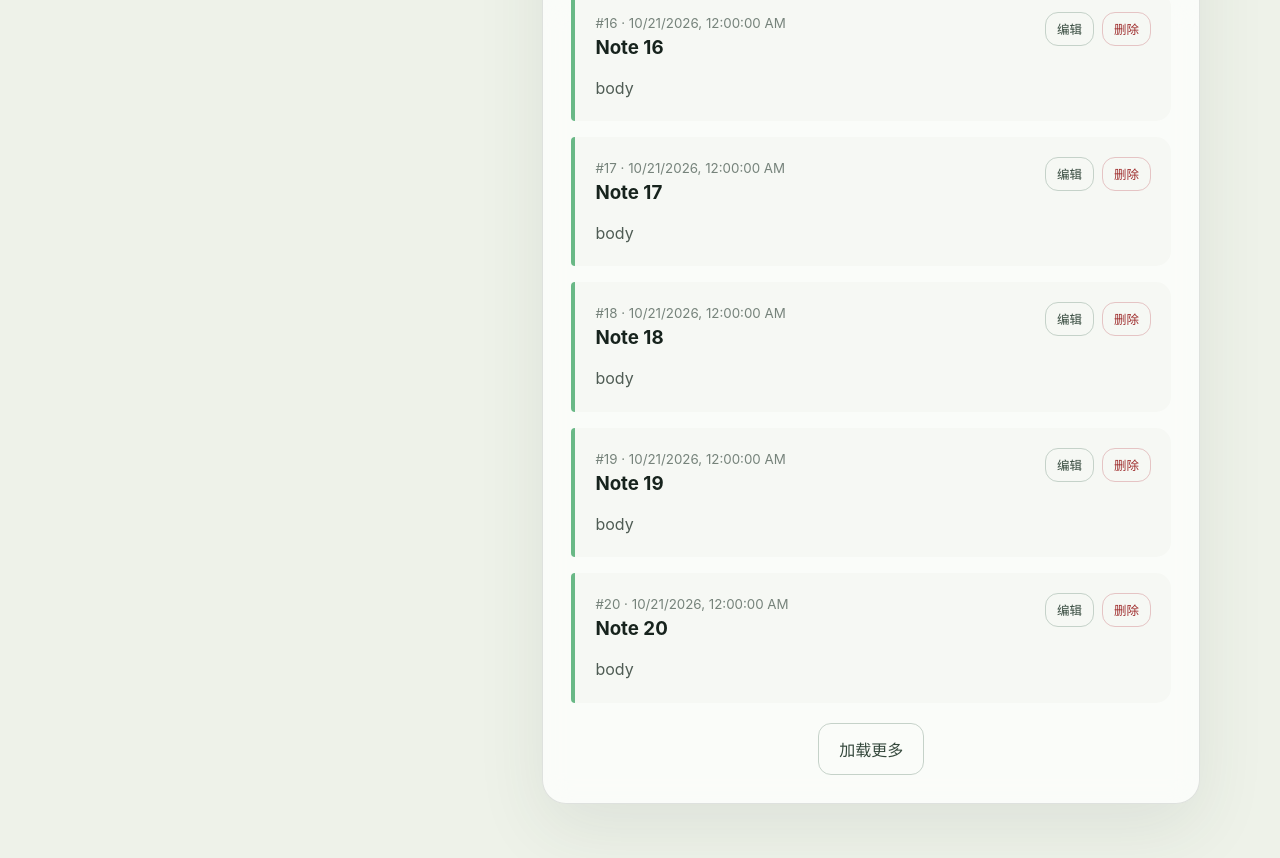
it: App › shows the total for paged results and resets it when filters change
(page scrolled)
Click the button with class "load-more": (871, 749) top-left (818, 723), bottom-right (924, 775)
(page scrolled)
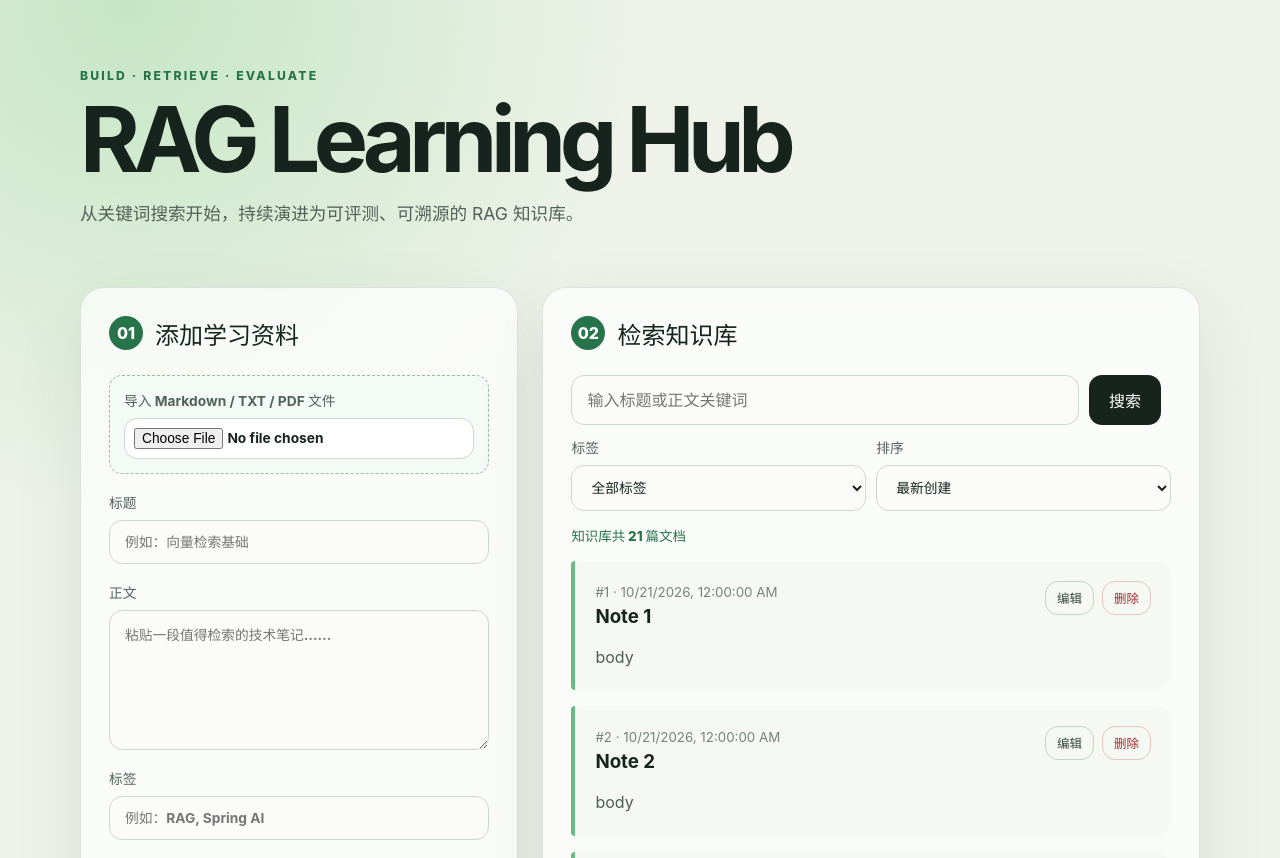
Check: the text with class "result-summary" reads "知识库共 21 篇文档", box top-left (571, 528), bottom-right (686, 544)
In the field with placeholder "输入标题或正文关键词": (825, 400) top-left (571, 375), bottom-right (1079, 425), type "Note"
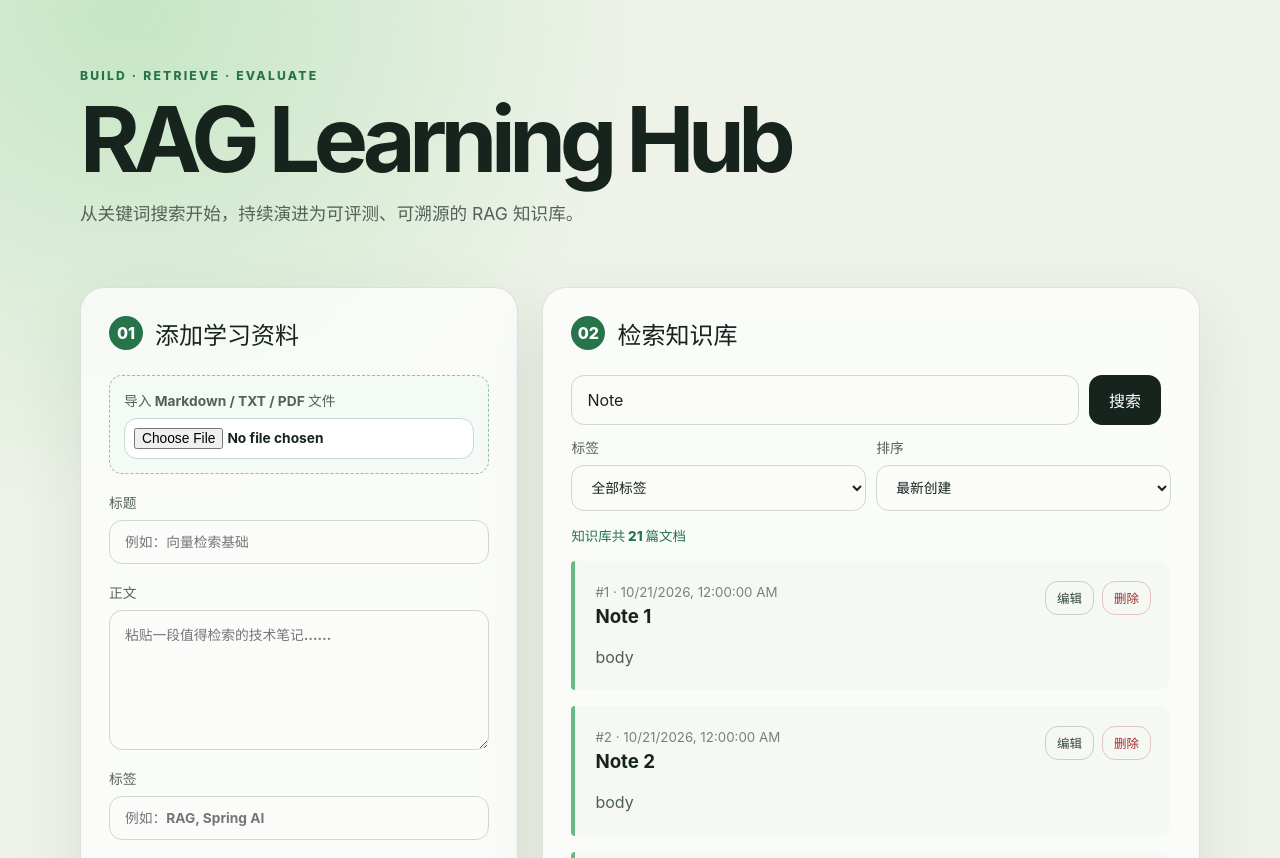
Submit the form with class "search", box top-left (571, 375), bottom-right (1171, 511)
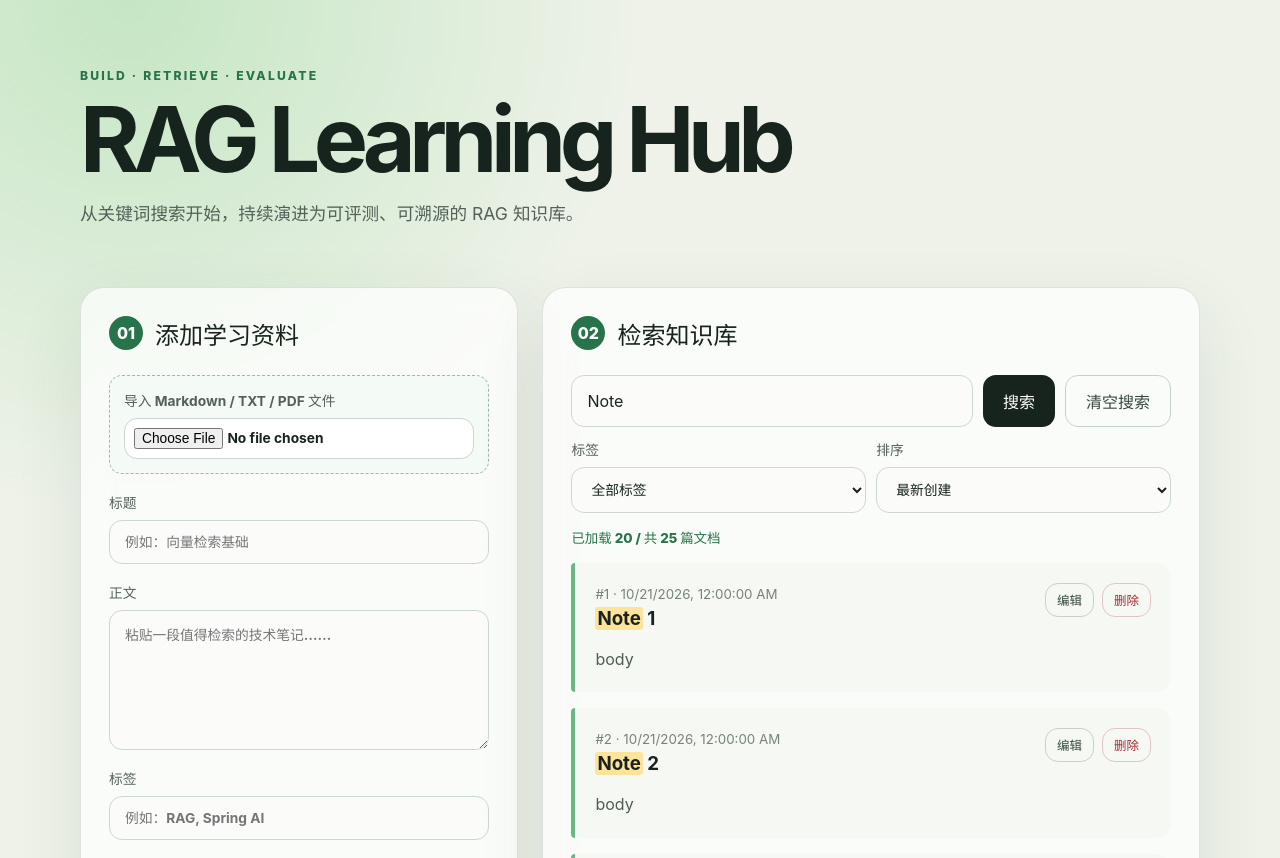
Check: the text with class "result-summary" reads "已加载 20 / 共 25 篇文档", box top-left (571, 530), bottom-right (720, 546)
